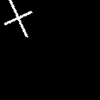single_crochet: (5, 0, 31, 36)
